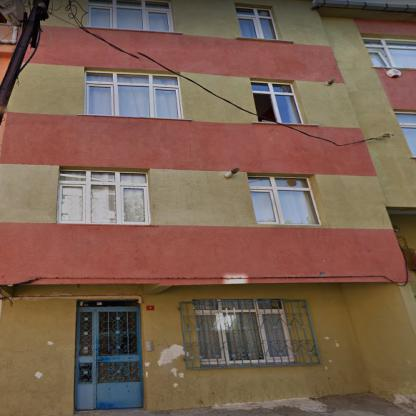door: (78, 310, 142, 408)
window: (193, 300, 289, 362), (60, 170, 147, 222), (86, 72, 180, 118), (248, 176, 320, 224), (88, 0, 169, 31), (250, 82, 302, 123), (362, 38, 415, 68), (236, 7, 276, 39), (395, 112, 415, 158), (79, 300, 137, 306)
